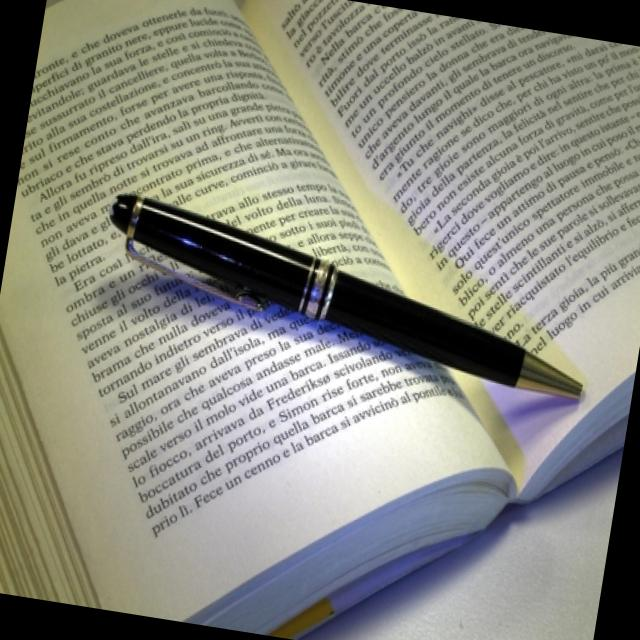pen: (42, 0, 640, 349), (62, 151, 623, 445)
